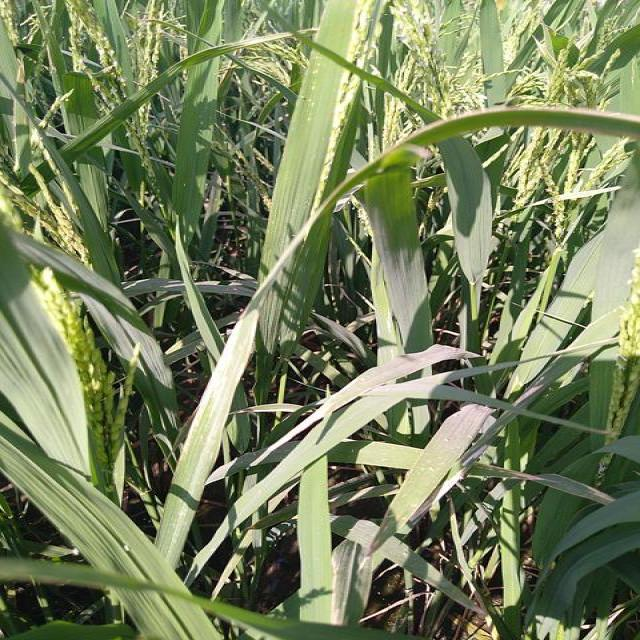Leaf Streak: (327, 539, 371, 629)
